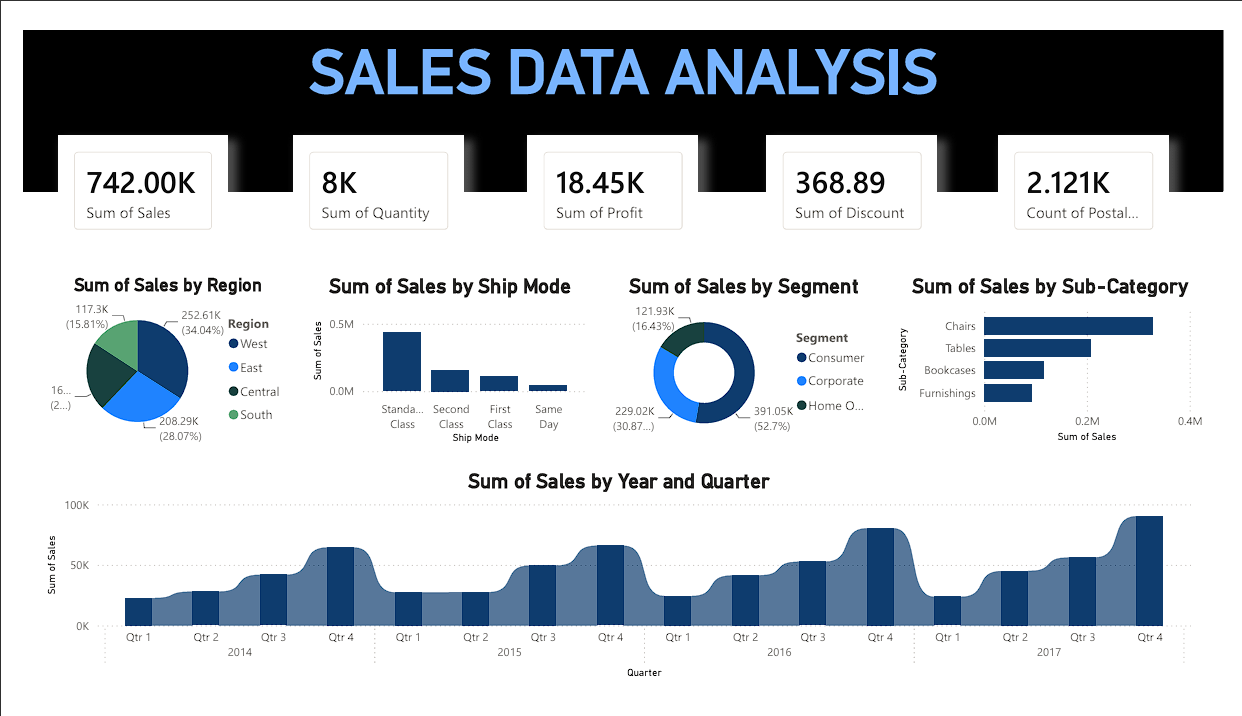

This screenshot's page, from the dashboard's own definition file:
{"tool":"powerbi","page":{"name":"Page 1","canvas":[1280,720],"ordinal":0},"visuals":[{"type":"textbox","box":[0,7,1280,171.7],"z":0},{"type":"cardVisual","fields":{"Data":["Sum(Sheet1.Sales)"]},"box":[36.7,120,181.7,116.7],"z":1000},{"type":"cardVisual","fields":{"Data":["Sum(Sheet1.Quantity)"]},"box":[288.3,120,181.7,116.7],"z":2000},{"type":"cardVisual","fields":{"Data":["Sum(Sheet1.Profit)"]},"box":[538.3,120,181.7,116.7],"z":3000},{"type":"cardVisual","fields":{"Data":["Sum(Sheet1.Discount)"]},"box":[793.3,120,181.7,116.7],"z":4000},{"type":"cardVisual","fields":{"Data":["CountNonNull(Sheet1.Postal Code)"]},"box":[1040,120,181.7,116.7],"z":5000},{"type":"pieChart","fields":{"Y":["Sum(Sheet1.Sales)"],"Category":["Sheet1.Region"]},"box":[20,266.7,268.3,185],"z":6000},{"type":"donutChart","fields":{"Y":["Sum(Sheet1.Sales)"],"Category":["Sheet1.Segment"]},"box":[623.3,268.3,290,185],"z":7000},{"type":"barChart","fields":{"Y":["Sum(Sheet1.Sales)"],"Category":["Sheet1.Sub-Category"]},"box":[926.7,266.7,336.7,185],"z":7001},{"type":"lineStackedColumnComboChart","fields":{"Y":["Sum(Sheet1.Sales)"],"Category":["Sheet1.Ship Mode"]},"box":[303.3,268.3,303.3,185],"z":7002},{"type":"ribbonChart","fields":{"Y":["Sum(Sheet1.Sales)"],"Category":["Sheet1.Order Date.Variation.Date Hierarchy.Year","Sheet1.Order Date.Variation.Date Hierarchy.Quarter"]},"box":[20,475,1230,228.3],"z":7003}]}

Visuals, with their boxes in screenshot pixels (x1, y1, x2, y2), scaled from the page's 1280x720 canvas onto the 1242x716 screenshot:
textbox: pyautogui.locateOnScreen(0, 7, 1241, 178)
cardVisual - Sum(Sheet1.Sales): pyautogui.locateOnScreen(36, 119, 212, 235)
cardVisual - Sum(Sheet1.Quantity): pyautogui.locateOnScreen(280, 119, 456, 235)
cardVisual - Sum(Sheet1.Profit): pyautogui.locateOnScreen(522, 119, 699, 235)
cardVisual - Sum(Sheet1.Discount): pyautogui.locateOnScreen(770, 119, 946, 235)
cardVisual - CountNonNull(Sheet1.Postal Code): pyautogui.locateOnScreen(1009, 119, 1185, 235)
pieChart - Sum(Sheet1.Sales) x Sheet1.Region: pyautogui.locateOnScreen(19, 265, 280, 449)
donutChart - Sum(Sheet1.Sales) x Sheet1.Segment: pyautogui.locateOnScreen(605, 267, 886, 451)
barChart - Sum(Sheet1.Sales) x Sheet1.Sub-Category: pyautogui.locateOnScreen(899, 265, 1226, 449)
lineStackedColumnComboChart - Sum(Sheet1.Sales) x Sheet1.Ship Mode: pyautogui.locateOnScreen(294, 267, 589, 451)
ribbonChart - Sum(Sheet1.Sales) x Sheet1.Order Date.Variation.Date Hierarchy.Year: pyautogui.locateOnScreen(19, 472, 1213, 699)
